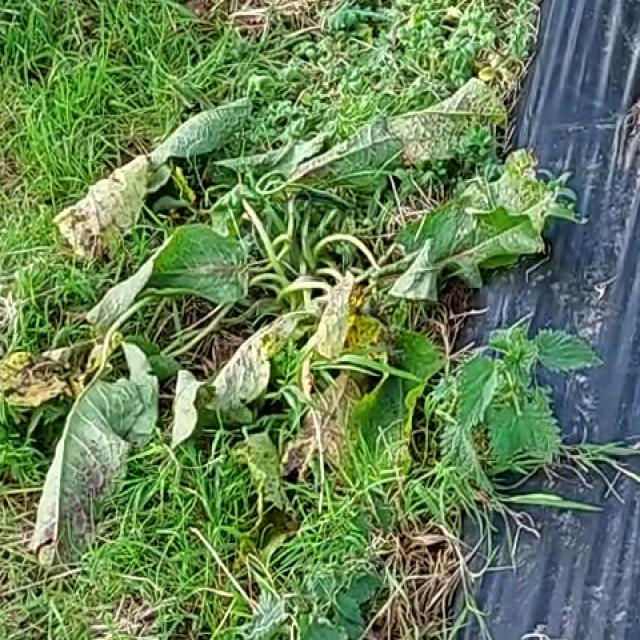organic waste: (11, 107, 553, 561)
